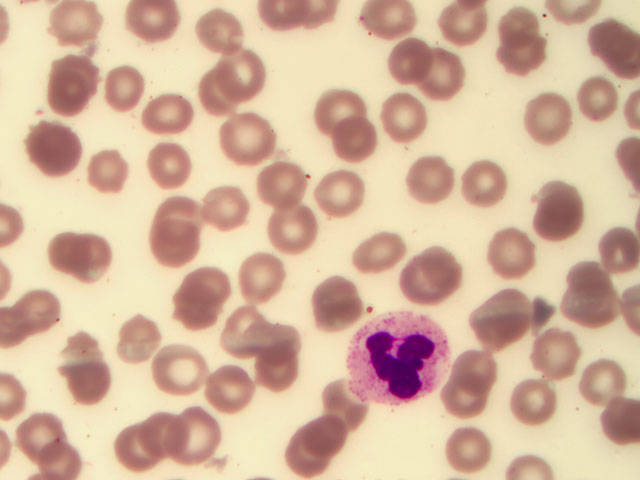RBC: (41, 69, 92, 118), (61, 46, 112, 95), (93, 63, 144, 112), (84, 144, 135, 193), (30, 122, 81, 171), (39, 227, 90, 276), (74, 236, 125, 285), (16, 286, 67, 335), (57, 321, 108, 370), (75, 368, 126, 417), (20, 405, 71, 454), (26, 431, 77, 480), (103, 431, 154, 480), (139, 417, 190, 466), (170, 412, 221, 461), (154, 346, 205, 395), (207, 363, 258, 412), (261, 344, 312, 393), (252, 315, 303, 364), (222, 307, 273, 356), (179, 280, 230, 329), (176, 253, 227, 302), (146, 228, 197, 277), (158, 195, 209, 244), (203, 183, 254, 232), (141, 134, 192, 183), (139, 83, 190, 132), (188, 63, 239, 112), (224, 50, 275, 99), (198, 11, 249, 60), (124, 2, 175, 51), (256, 152, 307, 201), (219, 109, 270, 158), (273, 198, 324, 247), (243, 246, 294, 295), (316, 168, 367, 217), (324, 110, 375, 159), (320, 86, 371, 135), (381, 90, 432, 139), (382, 34, 433, 83), (416, 47, 467, 96), (487, 37, 538, 86), (496, 2, 547, 51), (443, 2, 494, 51), (532, 91, 583, 140), (563, 73, 614, 122), (532, 182, 583, 231), (450, 155, 501, 204), (411, 151, 462, 200), (407, 237, 458, 286), (361, 227, 412, 276), (391, 261, 442, 310), (322, 281, 373, 330), (274, 431, 325, 480), (301, 426, 352, 475), (318, 378, 369, 427), (443, 417, 494, 466), (438, 376, 489, 425), (464, 333, 515, 382), (479, 294, 530, 343), (524, 329, 575, 378), (509, 365, 560, 414), (580, 356, 631, 405), (567, 265, 618, 314), (588, 228, 639, 277), (487, 232, 538, 281), (50, 1, 101, 49), (357, 1, 408, 49)
WBC: (351, 315, 450, 406)
